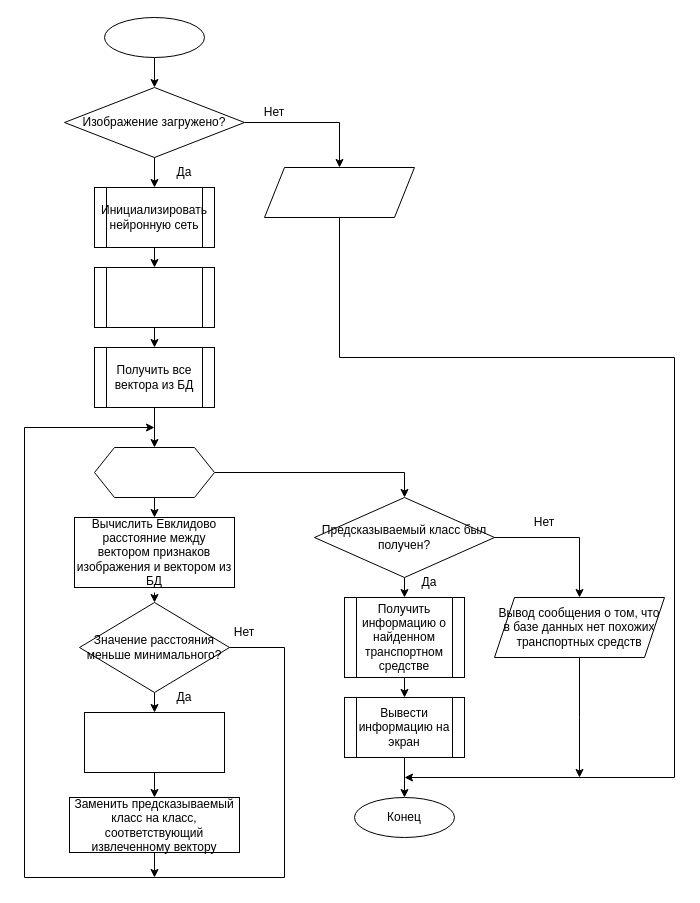
The diagram is 700 pixels wide and 903 high, and some of its shapes have lost their labels. The shapes that lost their labels are listed below. From the top down, each one's box as (x1, y1, x2, y2) in pixels, then its label:
(104, 16, 204, 58): Начало
(264, 166, 414, 218): Вывод сообщения об ошибке
(94, 266, 214, 328): Получить вектор представления изображения
(94, 446, 214, 498): Для каждого извлеченного вектора.
(84, 712, 224, 772): Сделать минимальное значение расстояния равным текущему
